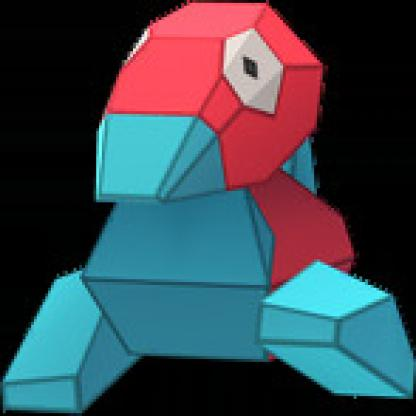Porygon: (29, 1, 414, 414)
